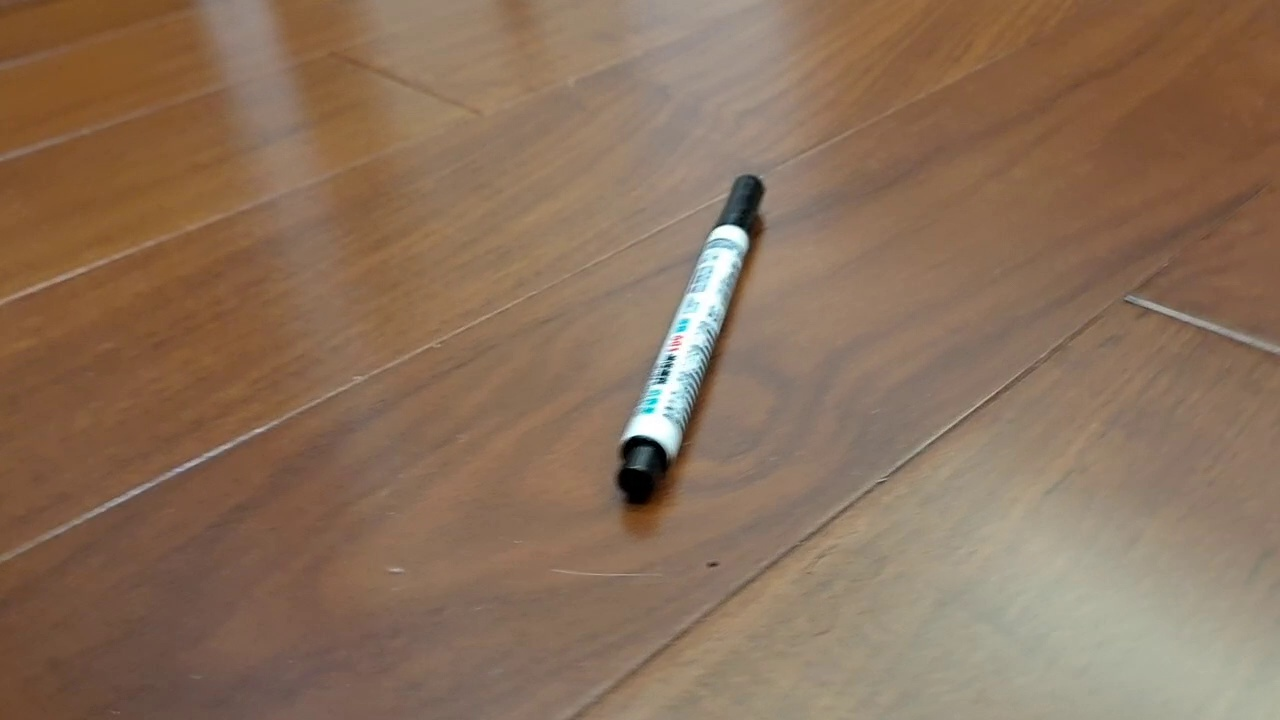pen: (615, 173, 767, 505)
